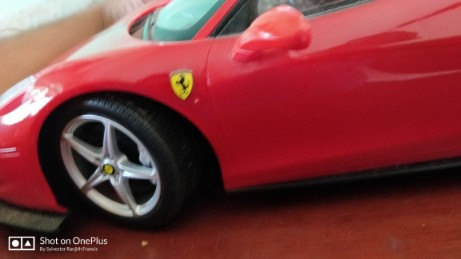unaligned_wheel: (32, 91, 234, 232)
